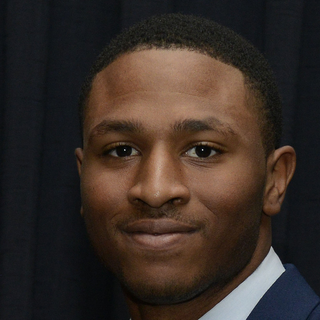eye: (180, 138, 229, 164), (98, 139, 144, 164)
